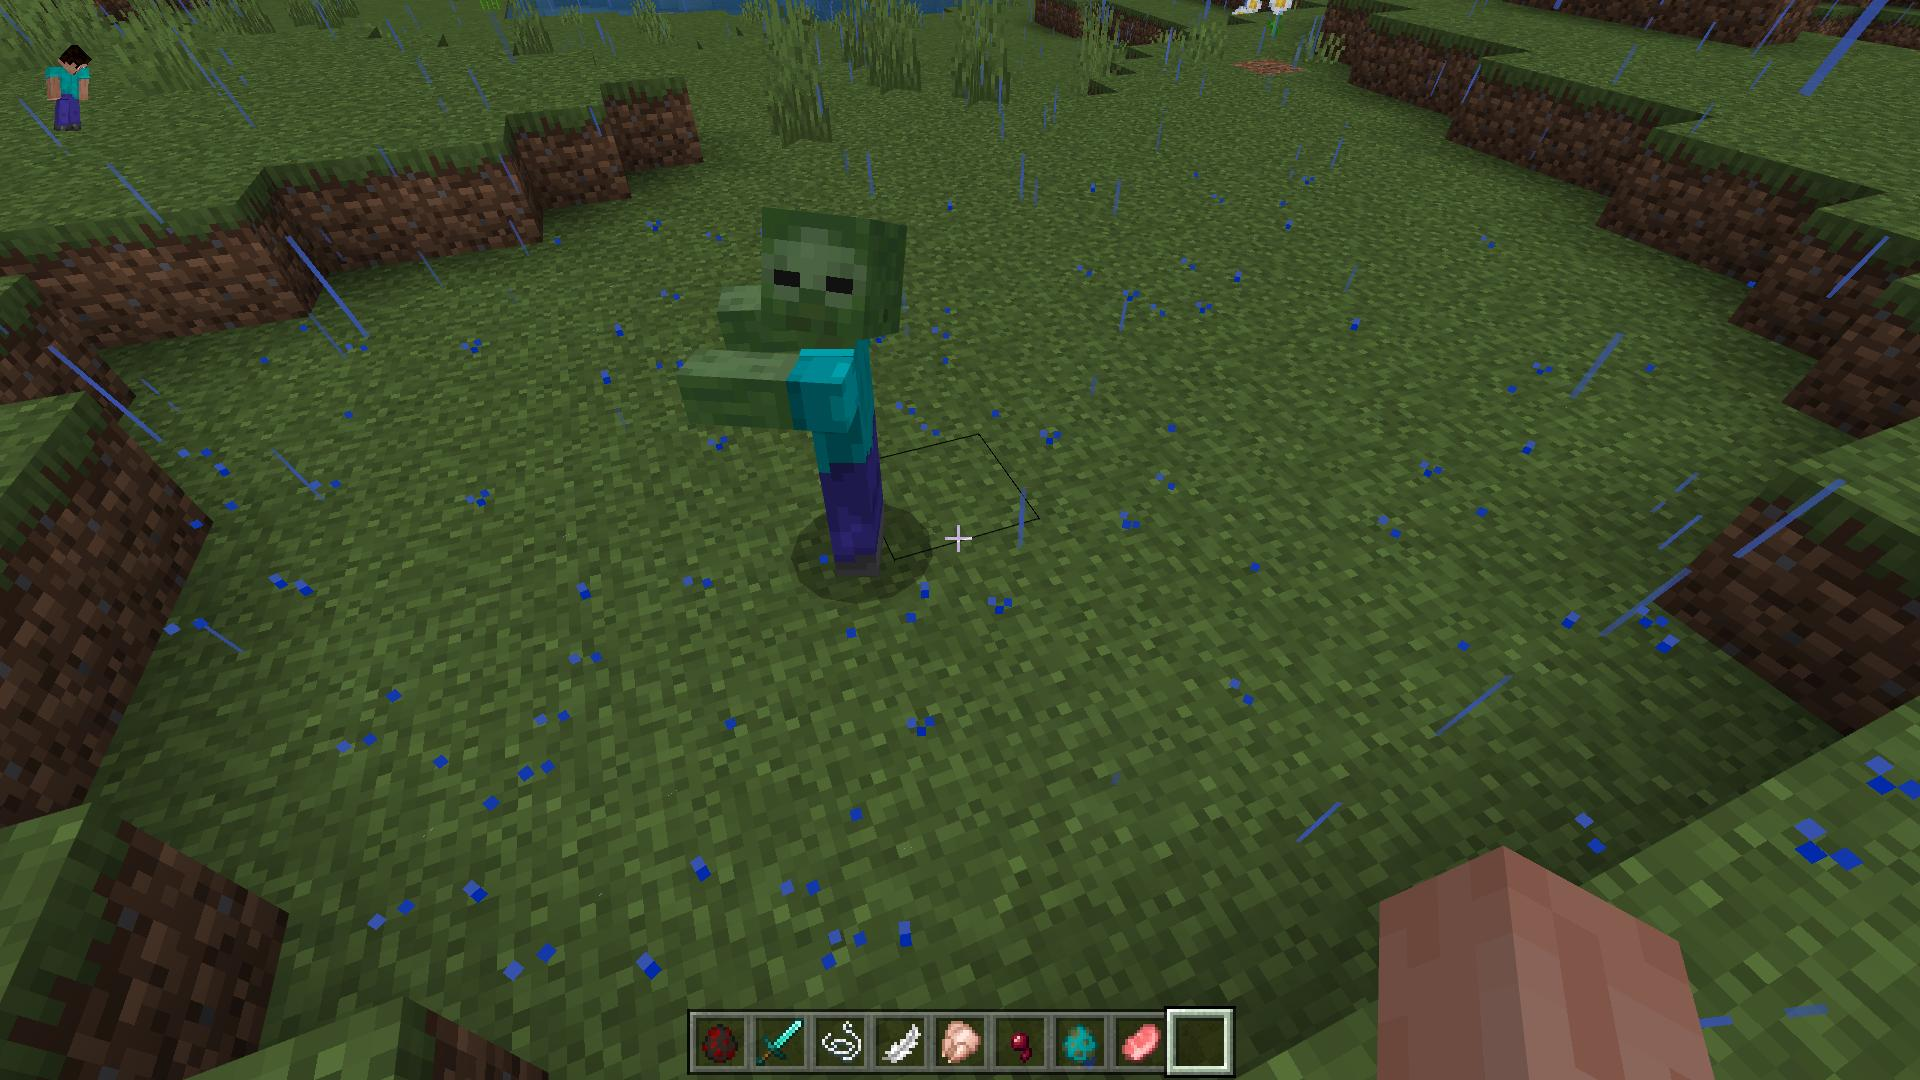zombie: (674, 204, 915, 575)
